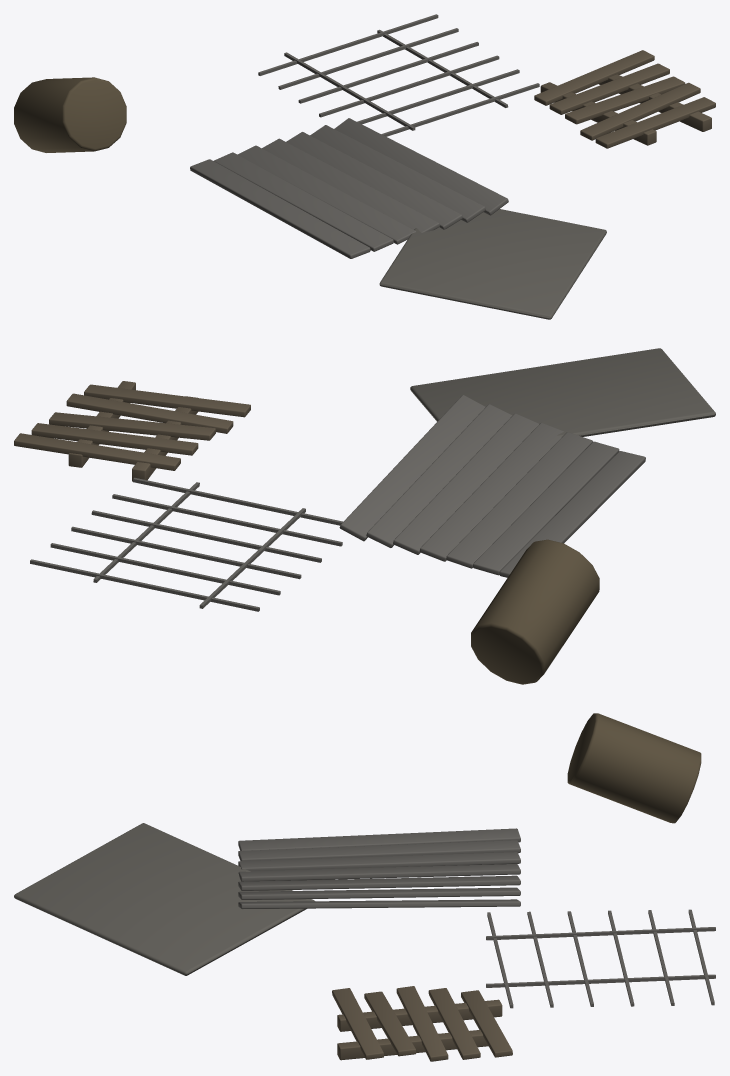
Rendered from field_debris_v1.glb.
3 views of the same model, one above another, from view 1: azimuth 30°, elevation 25°; view 2: azimuth 150°, elevation 25°; view 3: azimuth 270°, elevation 25° (orthographic). The views are drawn at different scales.
Parts seen in each view (by area): view 1: FieldDebris; view 2: FieldDebris; view 3: FieldDebris.
Part boxes in pixels (left/top/right/bottom): FieldDebris: left=14, top=14, right=715, bottom=319; FieldDebris: left=14, top=348, right=715, bottom=684; FieldDebris: left=14, top=713, right=715, bottom=1061.
Bounding box in the file's own units: 4.97 × 0.8404 × 5.23.
